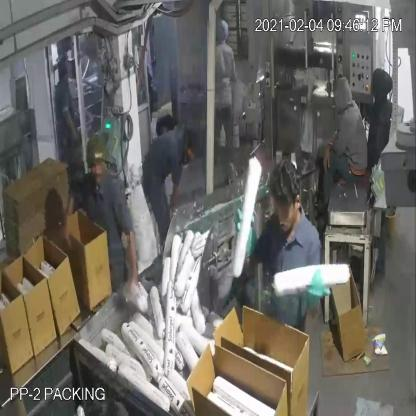glove: (292, 267, 336, 320), (235, 210, 258, 262)
no_glove: (118, 213, 144, 297), (320, 136, 336, 178), (170, 179, 184, 219)
